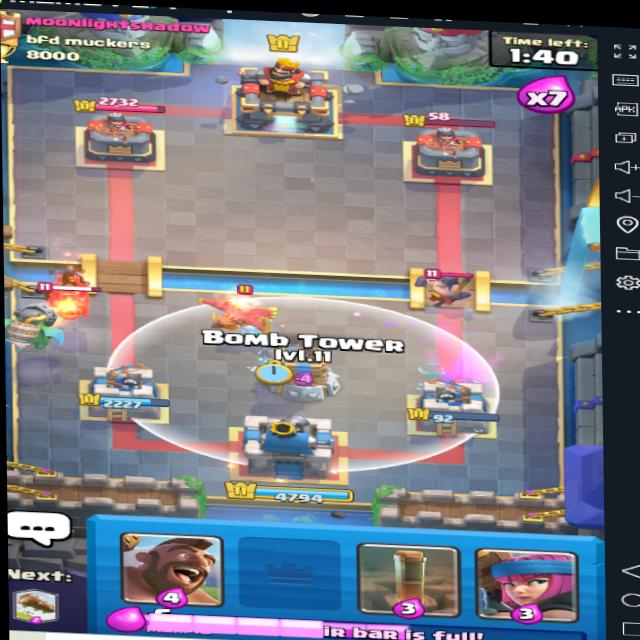Executioner: (415, 263, 483, 306)
Lavahound: (21, 280, 119, 325)
Pheonix: (182, 274, 301, 341)
